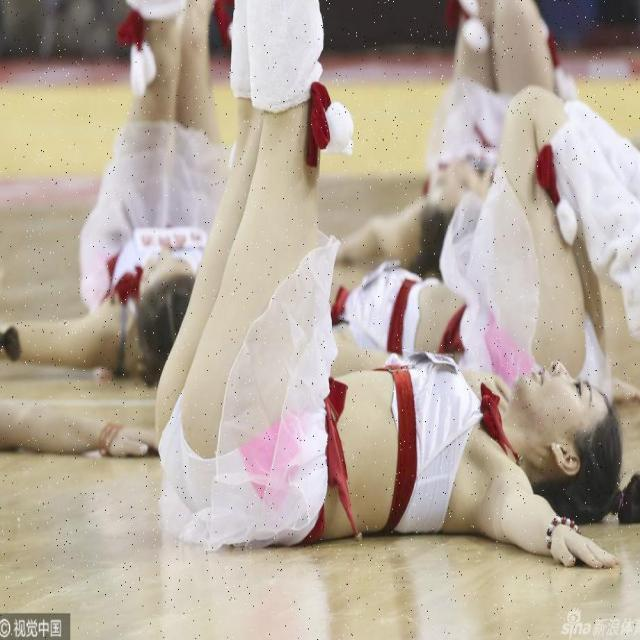fall: (146, 298, 632, 568)
